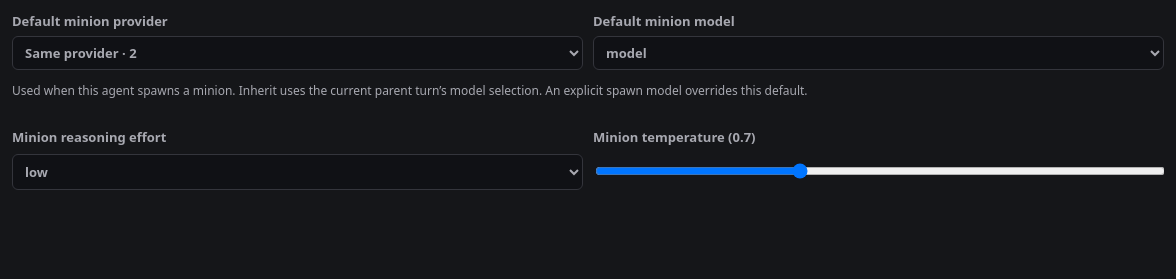
Test: Default minion provider autosave › preserves an invalid intermediate provider/model without writing until selection is complete
The image size is (1176, 279).
Expected: the dropdown labelled "Default minion provider" is enabled, [12,36,583,70]
Select "Choose model" in the dropdown labelled "Default minion model". click: {"x": 878, "y": 53}
box: [593,36,1164,70]
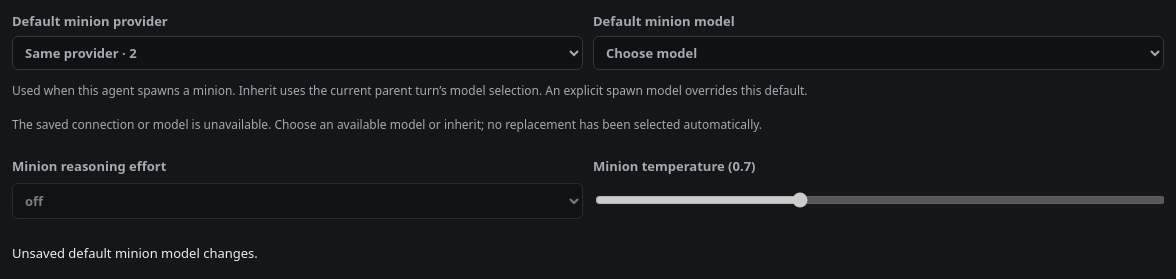
Result: the text "saved connection or model is unavailable" is shown at [12,116,762,133]
Result: the text "Unsaved default minion model changes." is shown at [12,244,258,262]
Select "other" in the dropdown labelled "Default minion model". click: {"x": 878, "y": 53}
box: [593,36,1164,70]
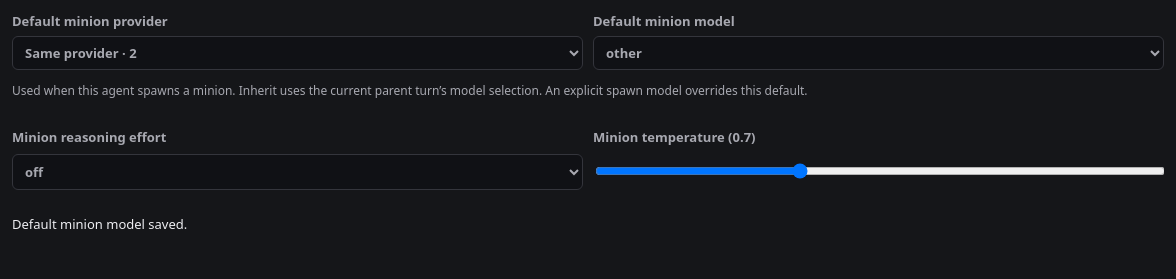
Result: the text "Default minion model saved." is shown at [12,215,187,233]
